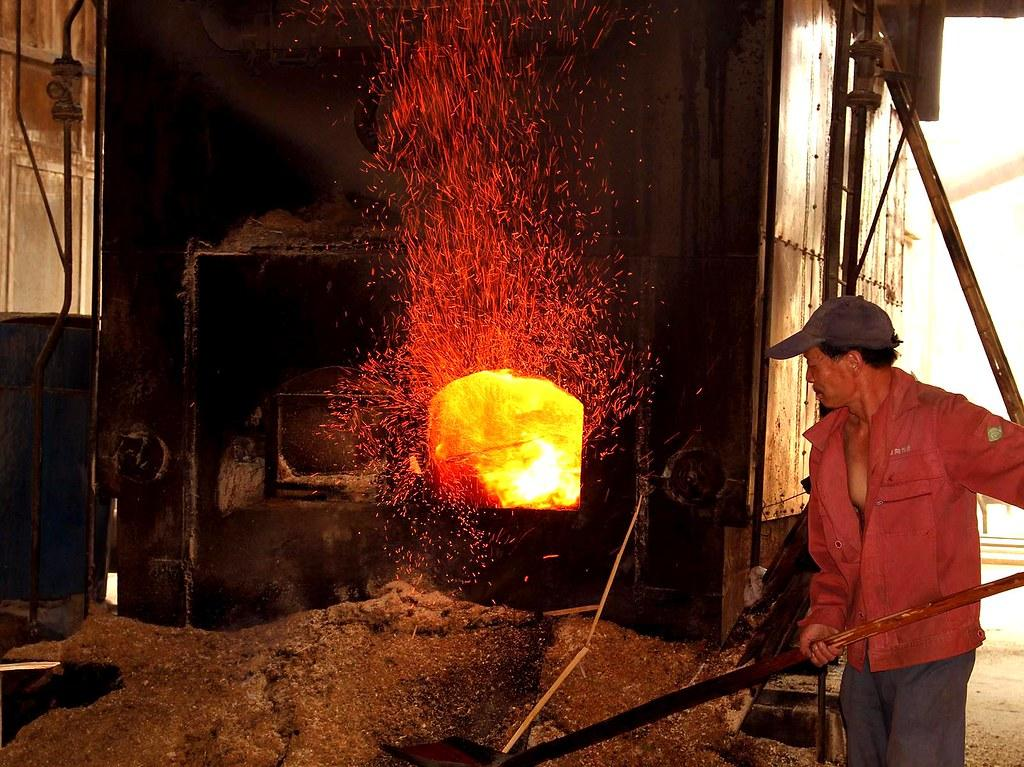controlled_fire: (352, 307, 601, 539)
